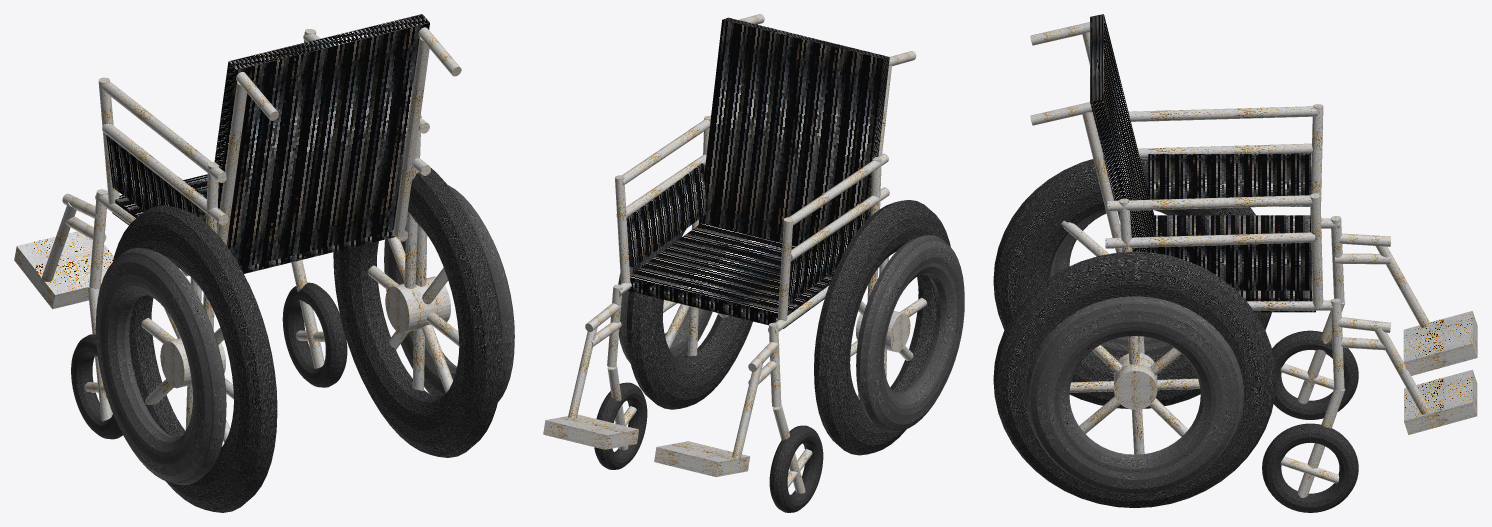
File: med_chear .glb
3 views of the same model, side by side, from view 1: azimuth 30°, elevation 25°; view 2: azimuth 150°, elevation 25°; view 3: azimuth 270°, elevation 25° (orthographic). The views are drawn at different scales.
Visible parts, largest first — view 1: кожа, Тор, Тор.001, Цилиндр.001, Тор.003, Цилиндр.034, Тор.002, Тор.004, Куб.004, Цилиндр.028, Тор.005; view 2: кожа, Цилиндр.001, Тор.001, Тор.003, Тор, Куб.004, Тор.005, Тор.004, Цилиндр.028, Тор.002, Цилиндр.034; view 3: Тор, кожа, Цилиндр.001, Тор.002, Тор.001, Куб.004, Цилиндр.034, Тор.004, Тор.005, Тор.003, Цилиндр.028.
Boxes of the visible parts, x1,y1,x2,y2 form: кожа: (106, 14, 429, 273); Тор: (333, 168, 502, 457); Тор.001: (113, 205, 277, 512); Цилиндр.001: (38, 27, 461, 421); Тор.003: (95, 247, 226, 485); Цилиндр.034: (368, 224, 459, 392); Тор.002: (384, 184, 514, 401); Тор.004: (282, 282, 347, 387); Куб.004: (14, 231, 188, 309); Цилиндр.028: (141, 277, 233, 442); Тор.005: (71, 334, 122, 439); кожа: (626, 17, 889, 328); Цилиндр.001: (568, 14, 916, 493); Тор.001: (814, 200, 950, 455); Тор.003: (856, 235, 964, 432); Тор: (626, 167, 752, 409); Куб.004: (543, 414, 749, 476); Тор.005: (769, 425, 823, 512); Тор.004: (594, 382, 647, 469); Цилиндр.028: (850, 257, 926, 399); Тор.002: (618, 267, 712, 363); Цилиндр.034: (663, 219, 728, 356); Тор: (993, 251, 1276, 507); кожа: (1090, 14, 1315, 312); Цилиндр.001: (1030, 22, 1430, 497); Тор.002: (1025, 296, 1244, 494); Тор.001: (993, 156, 1271, 408); Куб.004: (1403, 311, 1477, 434); Цилиндр.034: (1069, 336, 1199, 454); Тор.004: (1262, 423, 1358, 512); Тор.005: (1272, 330, 1358, 419); Тор.003: (1050, 209, 1178, 356); Цилиндр.028: (1061, 220, 1144, 353).
Bounding box in the file's own units: 4.76 × 6.63 × 7.09.
Materials: 11 (11 with a texture image).
